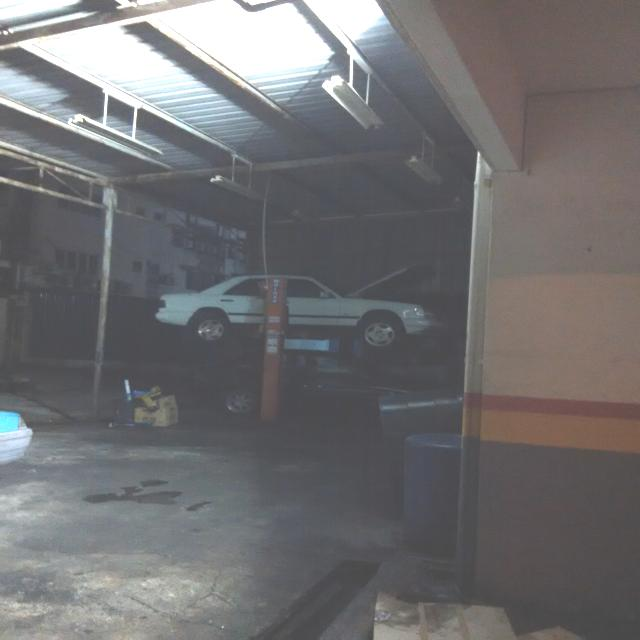Car: (143, 267, 440, 362)
